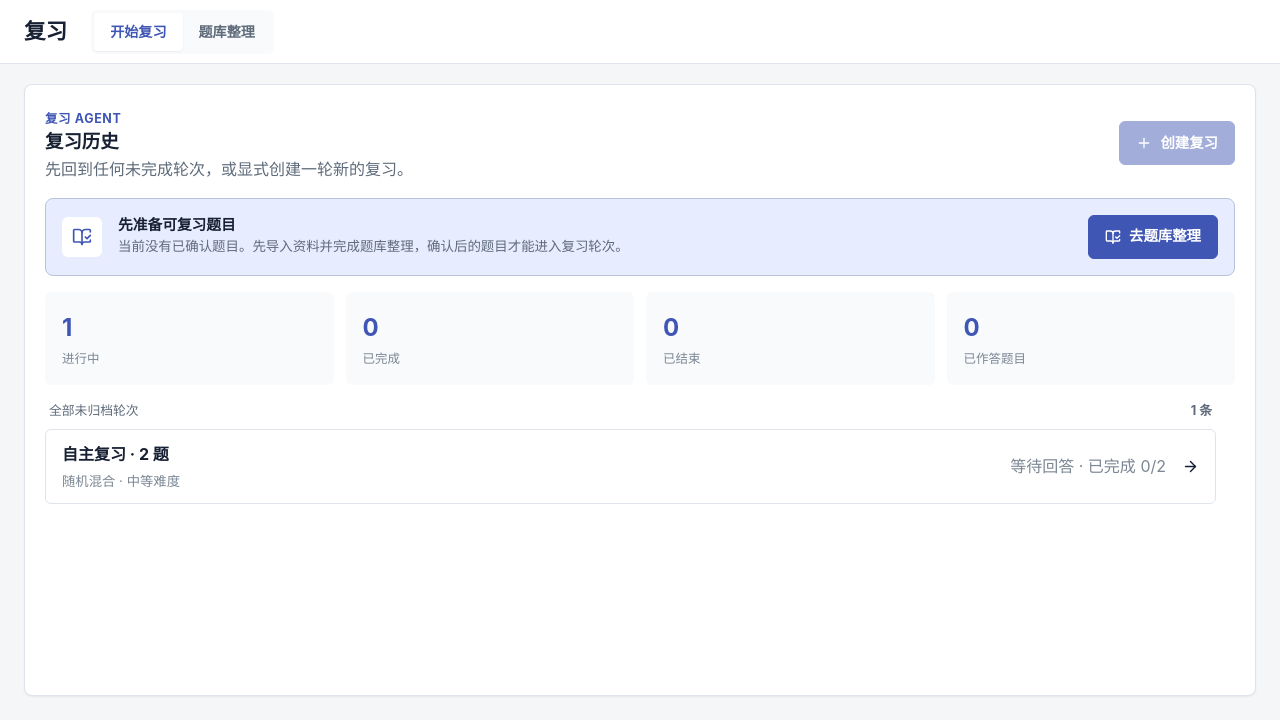
Test: R2 ReviewPage › defaults to history and enters a selected round without showing HITL
This screenshot has width=1280, height=720.
Expected: the heading "复习历史" is shown, x1=45 y1=130 x2=119 y2=152
Click the button "2 题" at (94, 454), box x1=46 y1=430 x2=1215 y2=504
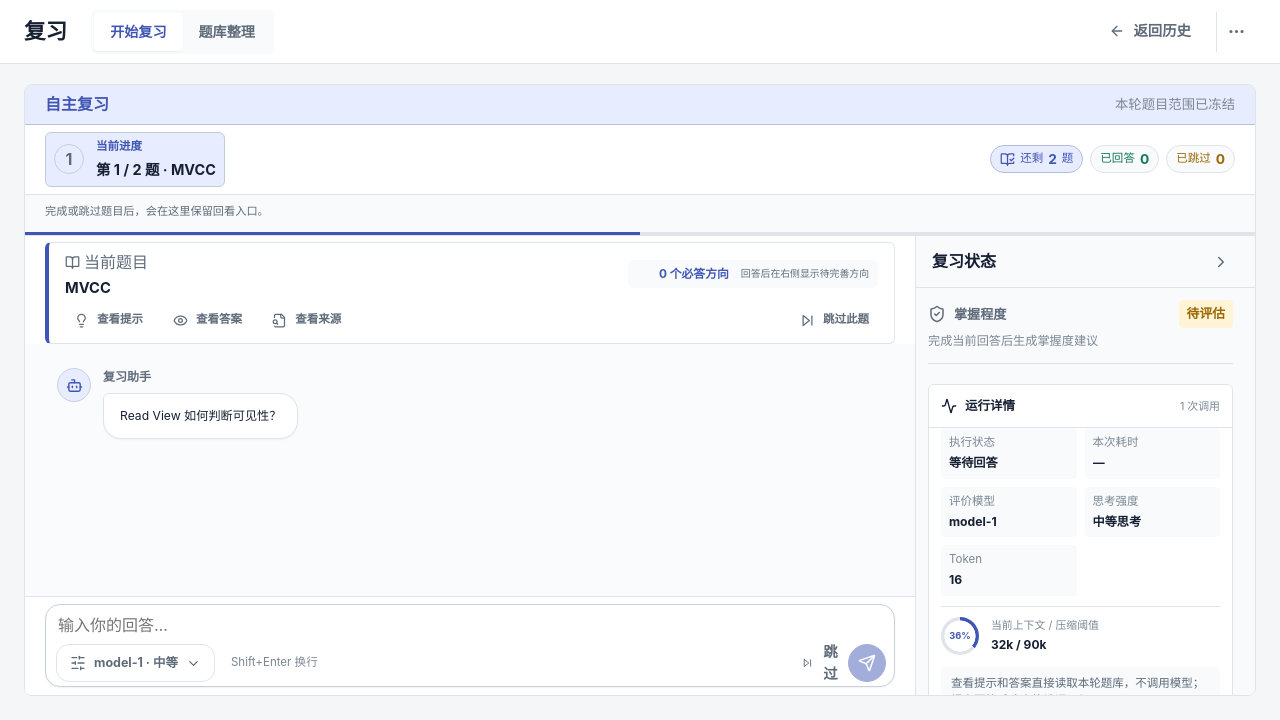
Expected: the element named "当前复习轮次" shows "Read View 如何判断可见性？", x1=120 y1=408 x2=281 y2=423
Expected: the element named "本题反馈" shows "model-1", x1=949 y1=514 x2=997 y2=528
Expected: the element named "本题反馈" shows "中等思考", x1=1092 y1=514 x2=1141 y2=528
